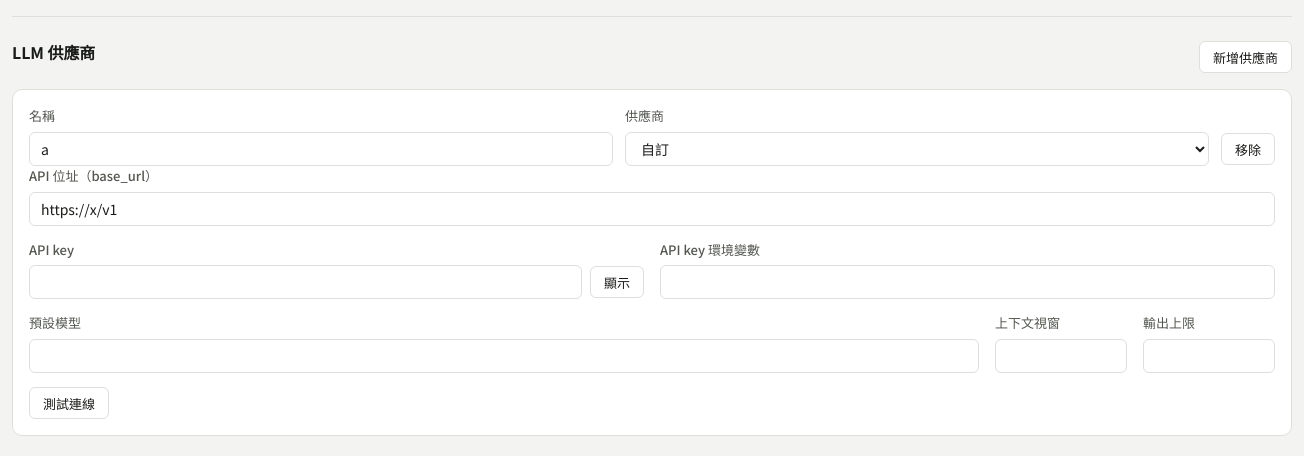
Test: test button reports the probe outcome
The image size is (1304, 456).
Click the button "測試連線" at (69, 403), box top-left (29, 387), bottom-right (109, 419)
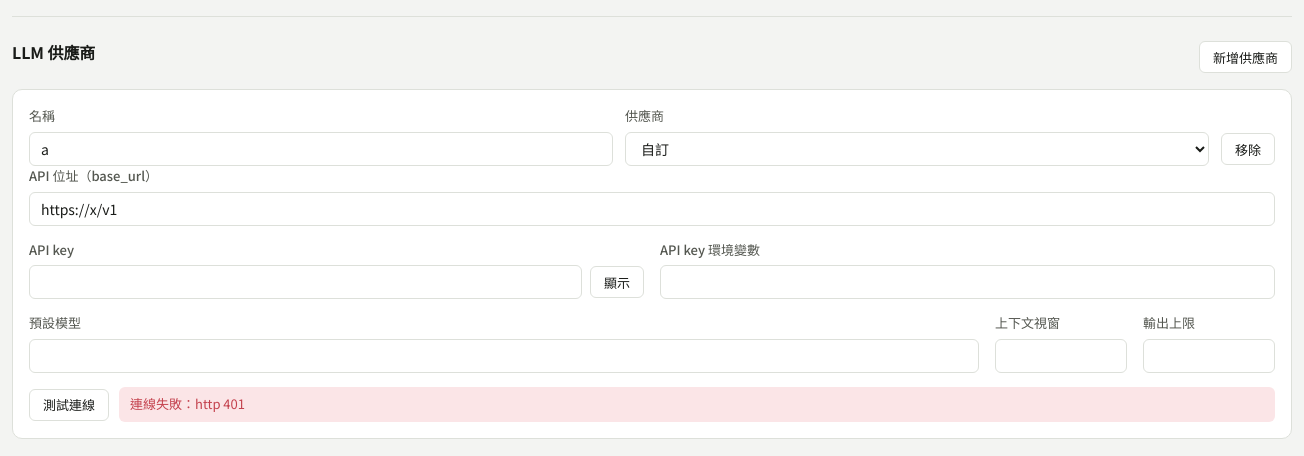
Expected: the text "連線失敗：http 401" is shown, top-left (119, 387), bottom-right (1275, 422)
